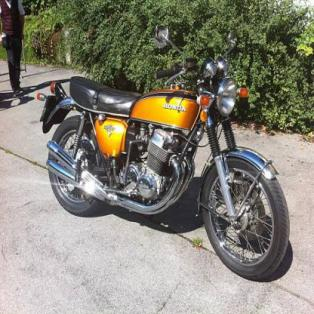Motocicleta: (35, 26, 290, 287)
